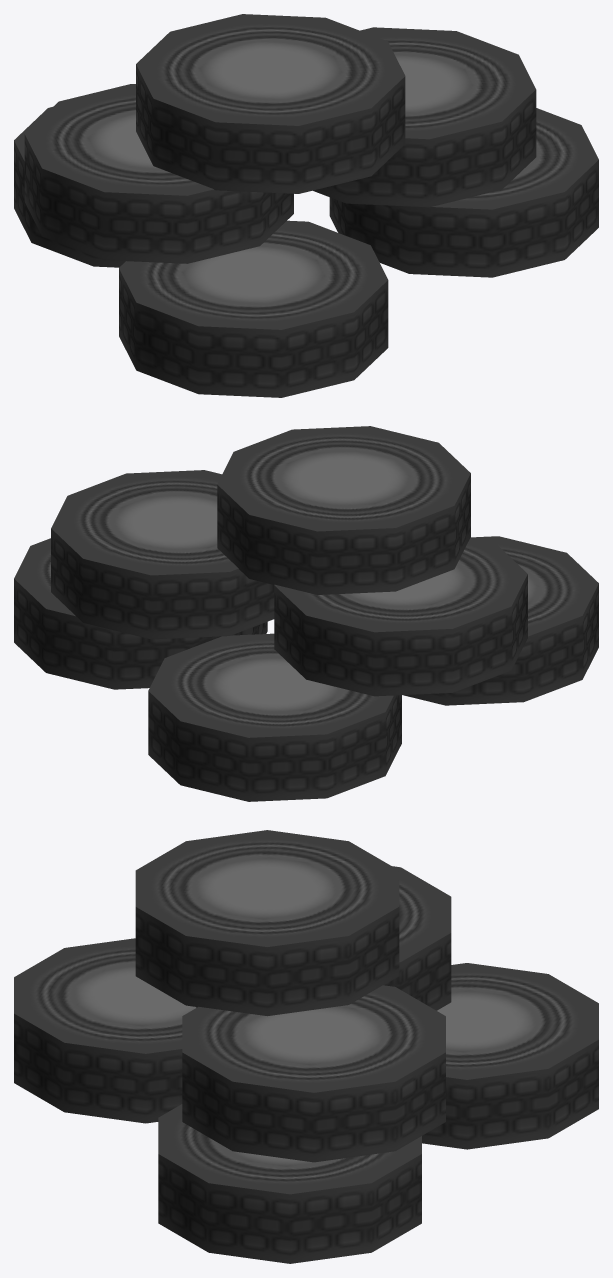
The model's file is tire_pile.fbx.
The picture shows the model from 3 angles, top to bottom: view 1: azimuth 30°, elevation 25°; view 2: azimuth 150°, elevation 25°; view 3: azimuth 270°, elevation 25°; orthographic projection. The views are drawn at different scales.
Visible parts, largest first — view 1: tire_pile; view 2: tire_pile; view 3: tire_pile.
Part boxes in pixels (x1,y1,x2,y2): tire_pile: (14,14,598,397); tire_pile: (14,426,598,801); tire_pile: (14,830,598,1263).
Size of the model in its own units: 2.97 by 1.13 by 2.8.
